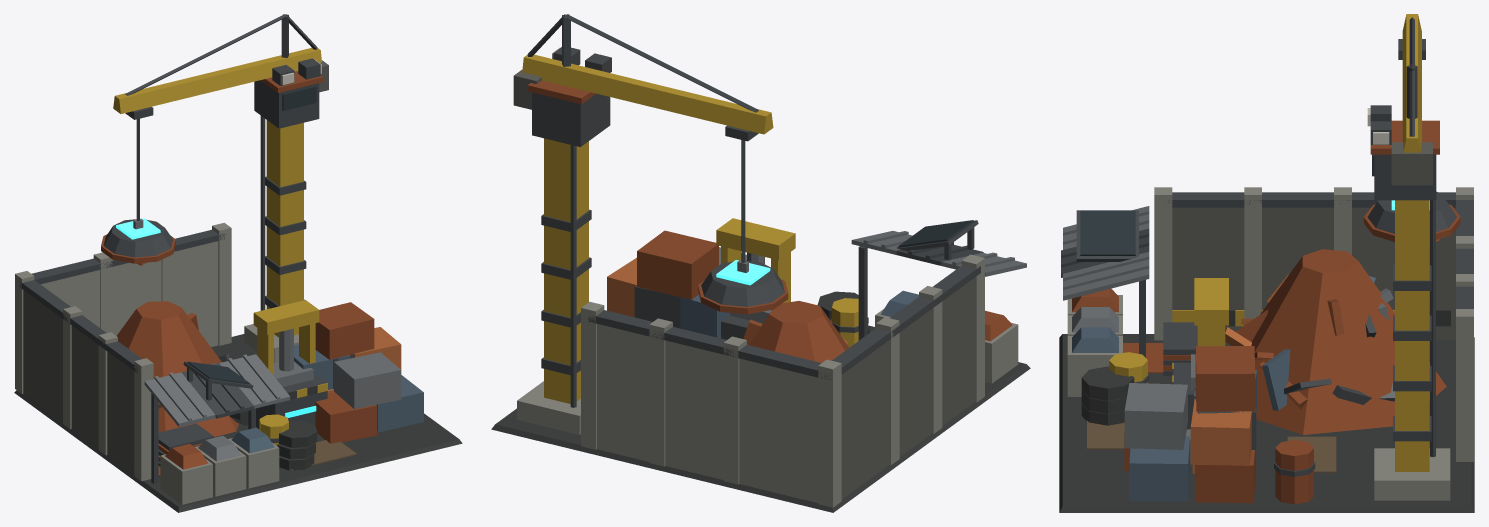
Rendered from scrapyard_l3.glb.
3 renders of one model, left to right at view 1: azimuth 30°, elevation 25°; view 2: azimuth 150°, elevation 25°; view 3: azimuth 270°, elevation 25°, orthographic. The views are drawn at different scales.
Visible parts, largest first — view 1: scrapyard_structure, scrapyard_props, scrapyard_heaps; view 2: scrapyard_structure, scrapyard_props, scrapyard_heaps; view 3: scrapyard_structure, scrapyard_heaps, scrapyard_props.
Part boxes in pixels (bbox=[...]): scrapyard_structure: bbox=[14, 14, 462, 512]; scrapyard_props: bbox=[101, 58, 423, 470]; scrapyard_heaps: bbox=[117, 301, 290, 504]; scrapyard_structure: bbox=[491, 14, 1030, 512]; scrapyard_props: bbox=[552, 47, 869, 407]; scrapyard_heaps: bbox=[743, 220, 1026, 383]; scrapyard_structure: bbox=[1059, 14, 1474, 512]; scrapyard_heaps: bbox=[1061, 206, 1446, 434]; scrapyard_props: bbox=[1081, 39, 1460, 504].
Bounding box in the file's own units: 6 × 6.79 × 6.
